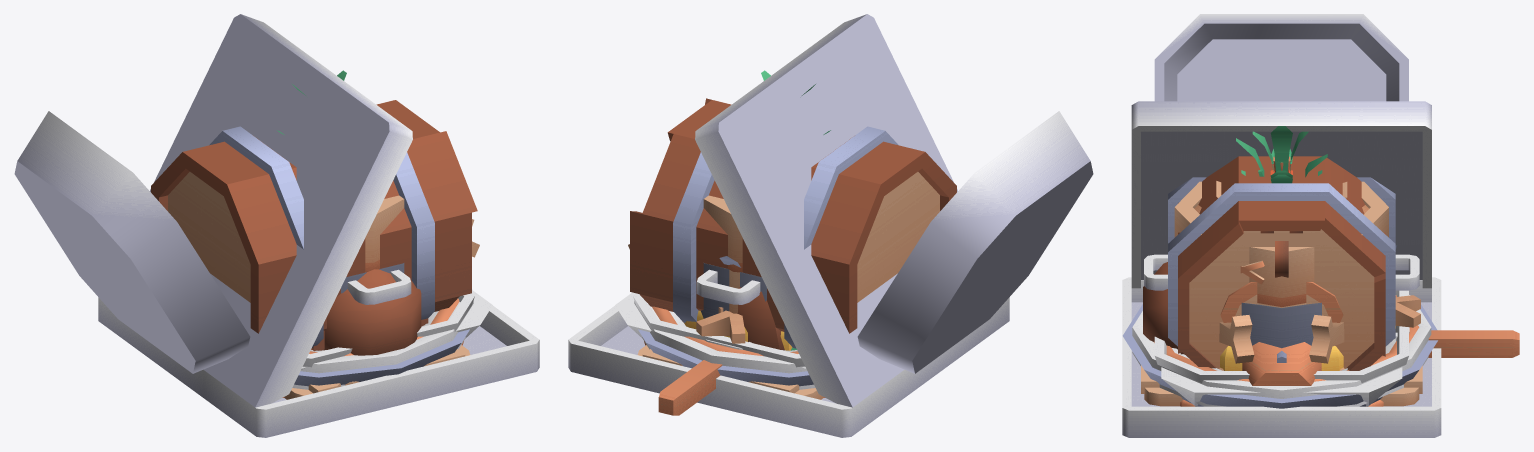
The model's file is food.glb.
3 renders of one model, left to right at view 1: azimuth 30°, elevation 25°; view 2: azimuth 150°, elevation 25°; view 3: azimuth 270°, elevation 25°, orthographic. The views are drawn at different scales.
Parts seen in each view (by area): view 1: lid (×2), barrel, pizza-box, wholer-ham, pie, plate-deep, pot-stew, layer, styrofoam-dinner, plate-rectangle; view 2: lid (×2), barrel, pizza-box, pie, plate-deep, pot-stew, frying-pan, styrofoam-dinner, leg, layer, wholer-ham, plate-rectangle; view 3: lid (×2), barrel, pizza-box, layer, pot-stew, pie, plate-deep, styrofoam-dinner, loaf-baguette, leg (×2), frying-pan, plate-rectangle (+6 smaller).
Part boxes in pixels (box(x1,y1,x2,y2)): lid (×2): box(14, 14, 412, 407); barrel: box(151, 100, 477, 348); pizza-box: box(98, 297, 539, 437); wholer-ham: box(324, 269, 421, 355); pie: box(294, 298, 469, 386); plate-deep: box(300, 301, 473, 373); pot-stew: box(341, 263, 411, 304); layer: box(365, 195, 404, 272); styrofoam-dinner: box(303, 293, 474, 367); plate-rectangle: box(301, 290, 492, 369); lid (×2): box(695, 14, 1093, 407); barrel: box(630, 98, 956, 348); pizza-box: box(568, 297, 1009, 437); pie: box(638, 306, 813, 386); plate-deep: box(634, 301, 807, 373); pot-stew: box(696, 263, 766, 318); frying-pan: box(658, 360, 722, 415); styrofoam-dinner: box(633, 293, 804, 367); leg: box(628, 244, 784, 350); layer: box(703, 195, 742, 272); wholer-ham: box(696, 310, 745, 343); plate-rectangle: box(615, 292, 806, 369); lid (×2): box(1131, 14, 1431, 288); barrel: box(1168, 156, 1395, 370); pizza-box: box(1122, 277, 1441, 437); layer: box(1174, 181, 1388, 307); pot-stew: box(1144, 254, 1419, 348); pie: box(1122, 295, 1437, 408); plate-deep: box(1132, 295, 1431, 398); styrofoam-dinner: box(1154, 290, 1408, 383); loaf-baguette: box(1242, 342, 1321, 385); leg (×2): box(1219, 315, 1344, 363); frying-pan: box(1428, 330, 1519, 357); plate-rectangle: box(1161, 367, 1402, 406).
Bounding box in the file's own units: 1.35 × 0.9518 × 1.19.
Materials: 2 (1 with a texture image).
